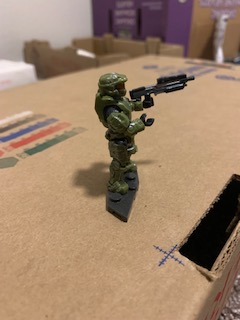chief: (93, 70, 154, 196)
rifle: (128, 74, 196, 104)
spartan: (91, 68, 152, 194)
